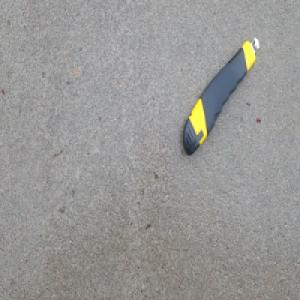Cutter: (179, 34, 258, 156)
